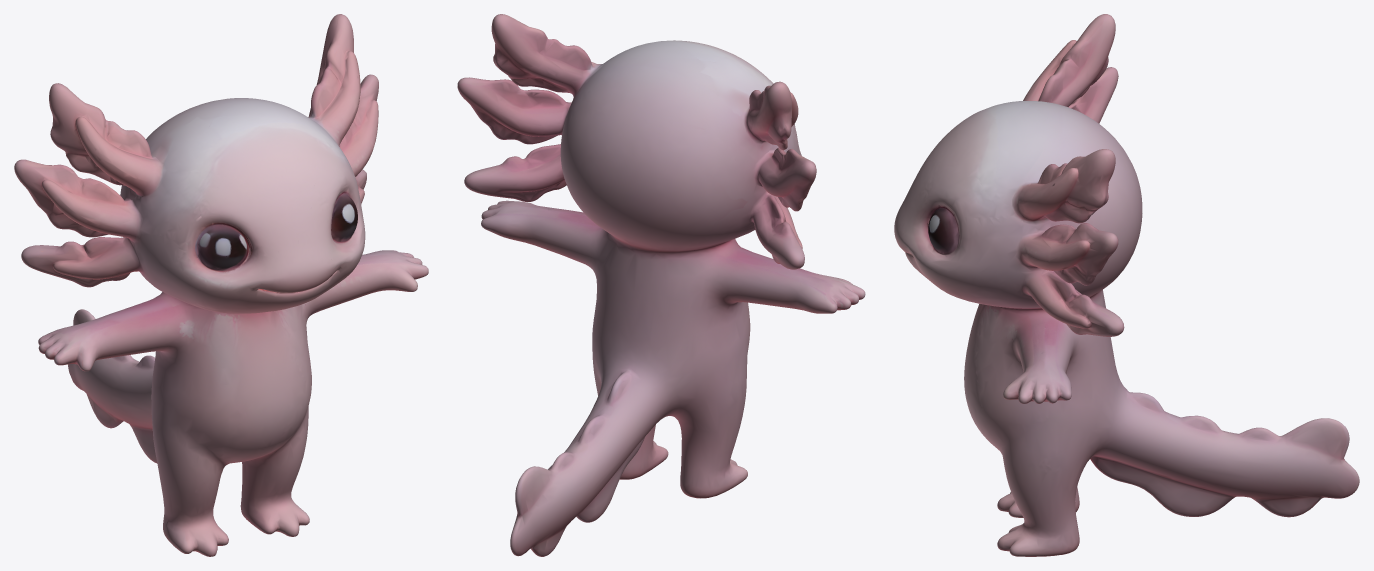
The model's file is rocky.glb.
3 renders of one model, left to right at view 1: azimuth 30°, elevation 25°; view 2: azimuth 150°, elevation 25°; view 3: azimuth 270°, elevation 25°, orthographic. The views are drawn at different scales.
Parts seen in each view (by area): view 1: node_0; view 2: node_0; view 3: node_0.
Boxes of the visible parts, x1,y1,x2,y2 form: node_0: [14, 14, 428, 556]; node_0: [457, 14, 865, 556]; node_0: [894, 14, 1359, 556].
Size of the model in its own units: 0.8292 by 0.9652 by 0.9096.
Materials: 1 (1 with a texture image).
